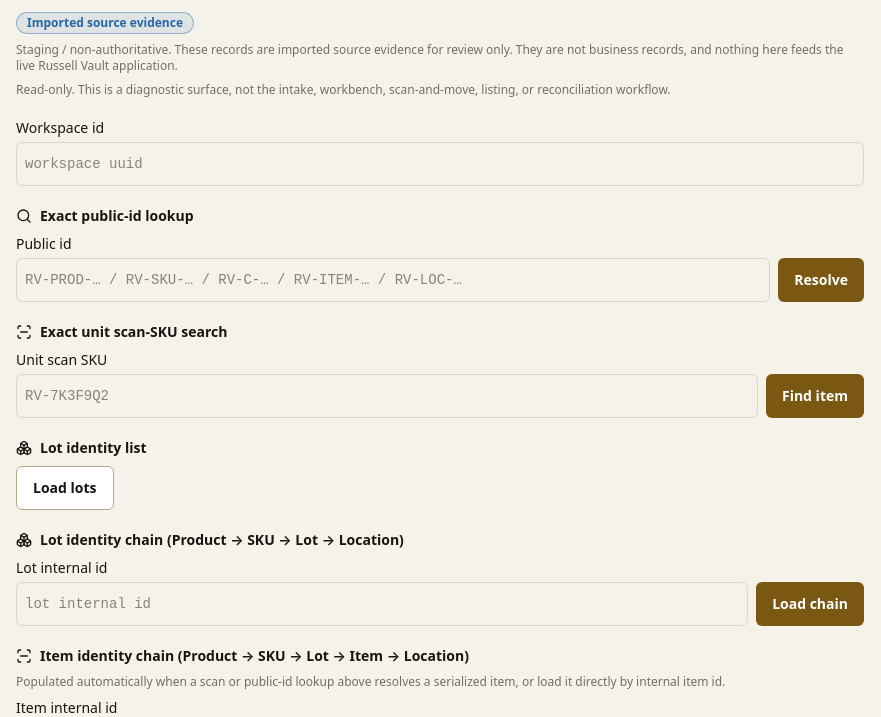
Test case: InventoryIdentity — preserved behaviour › loads an item identity chain by internal id
The width and height of the screenshot is (881, 717).
Type "11111111-1111-4111-8111-111111111111" into the field labelled "Workspace id".
click(440, 164); type("11111111-1111-4111-8111-111111111111")  # box [16, 142, 864, 186]
(page scrolled)
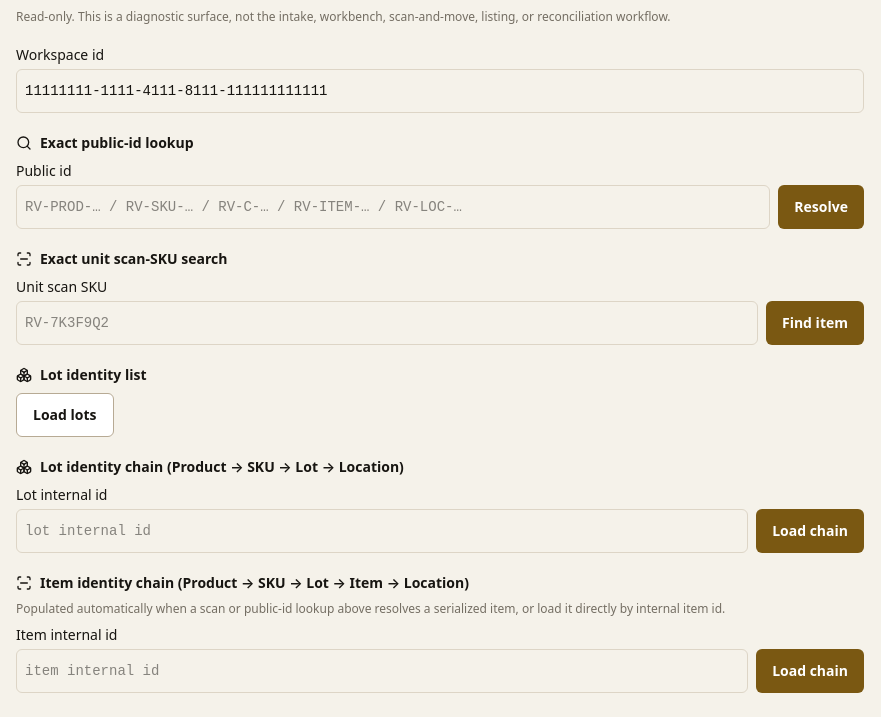
Type "i1" into the field labelled "Item internal id".
click(382, 671); type("i1")  # box [16, 649, 748, 693]
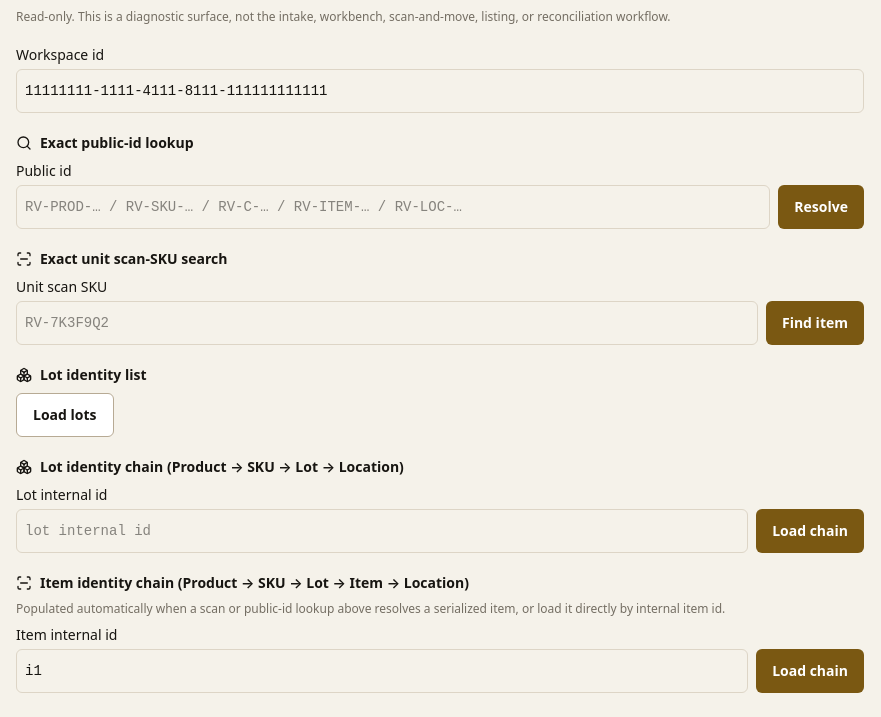
Click the 2nd button "Load chain".
click(810, 671)  # box [756, 649, 864, 693]
(page scrolled)
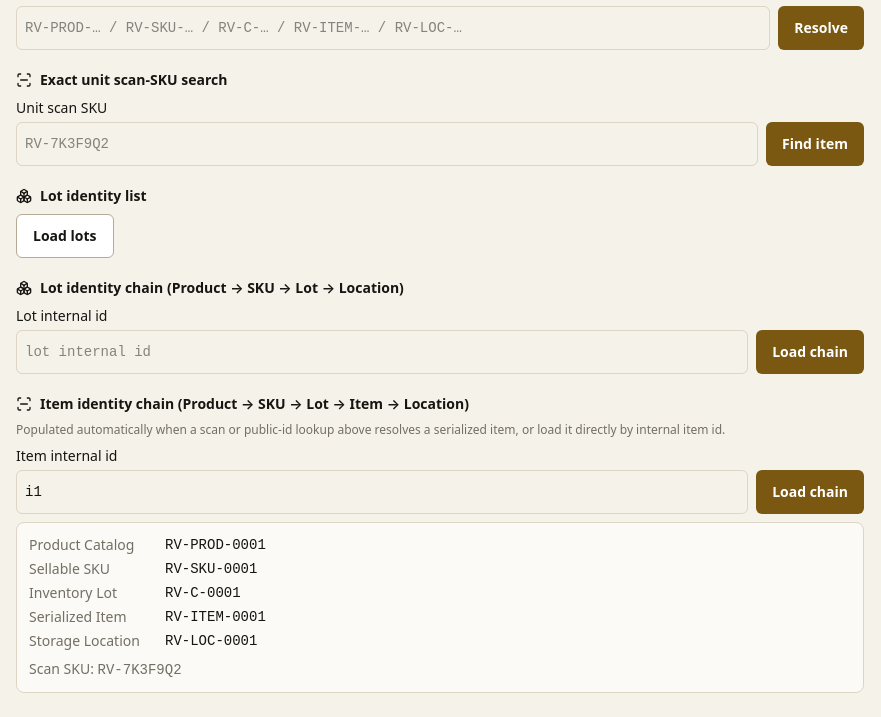
Expected: the text "Serialized Item" is shown, [29, 607, 127, 626]
Expected: the text "Scan SKU: RV-7K3F9Q2" is shown, [29, 659, 182, 678]
